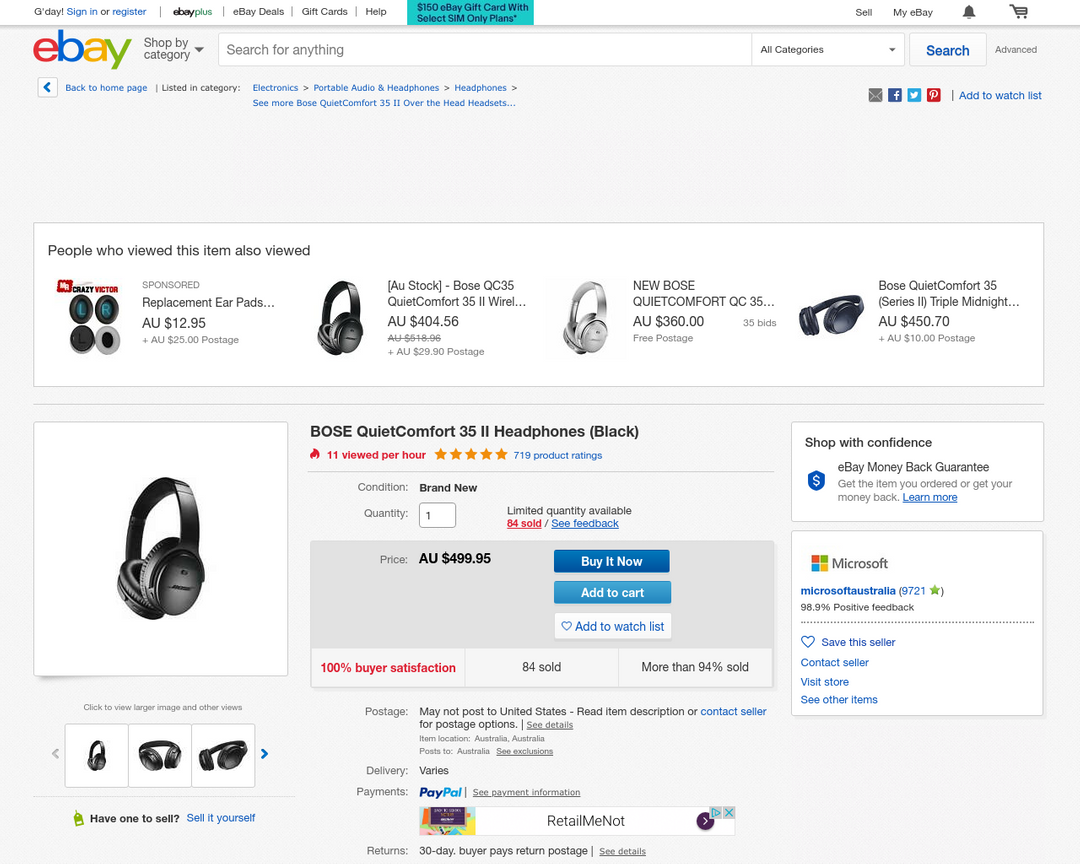Ebay: (31, 27, 136, 73)
